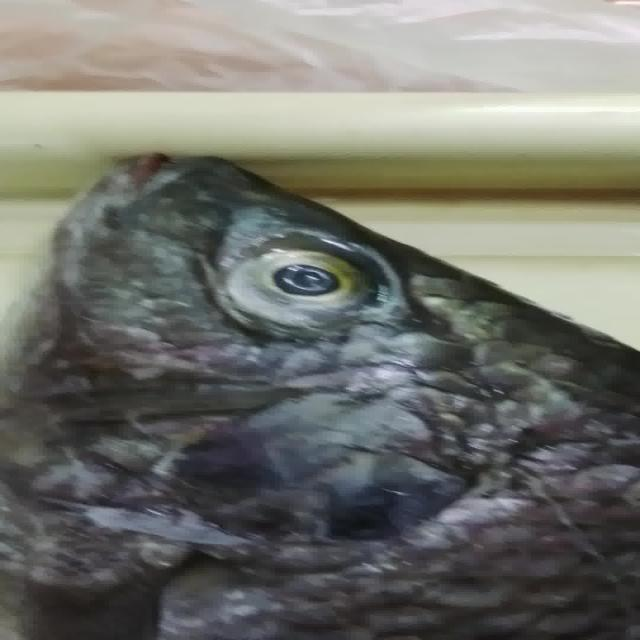Non-Fresh: (213, 223, 397, 338)
